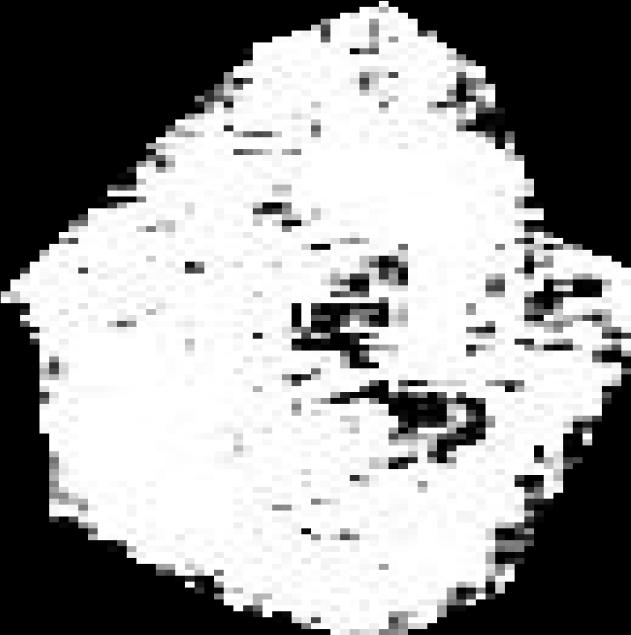tumor_good_chance: (1, 1, 631, 635)
